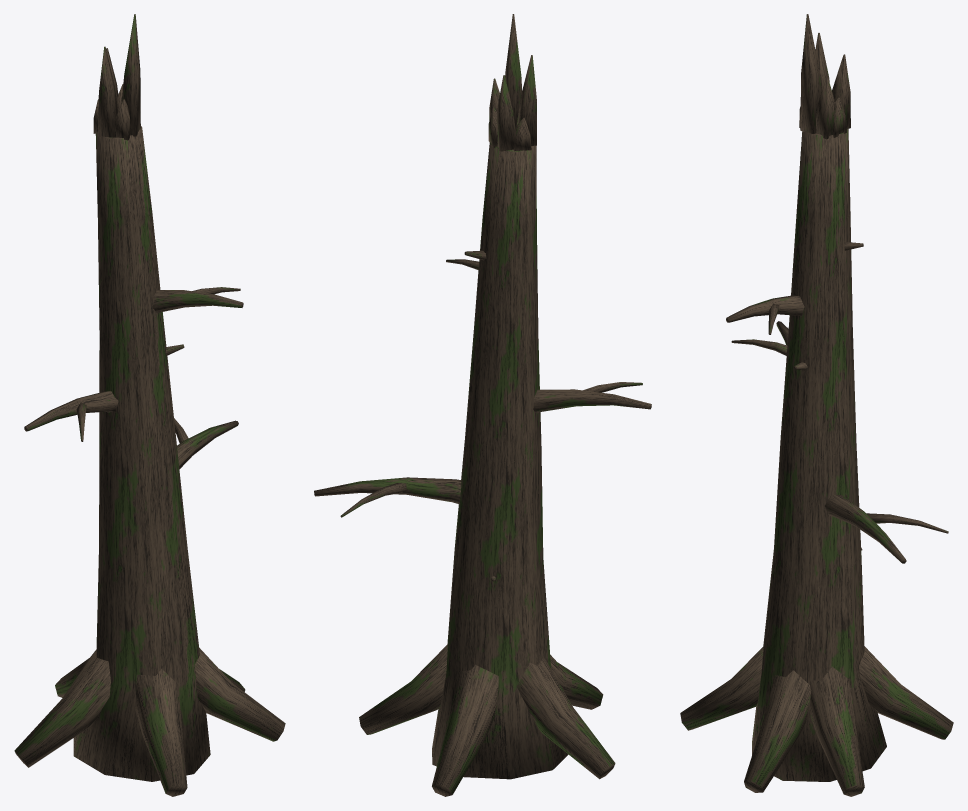
The model's file is Dead_Standing_Trunk.glb.
3 views of the same model, side by side, from view 1: azimuth 30°, elevation 25°; view 2: azimuth 150°, elevation 25°; view 3: azimuth 270°, elevation 25° (orthographic).
Visible parts, largest first — view 1: Dead_Standing_Trunk__Bark; view 2: Dead_Standing_Trunk__Bark; view 3: Dead_Standing_Trunk__Bark.
Part boxes in pixels (x1,y1,x2,y2): Dead_Standing_Trunk__Bark: (14,14,285,796); Dead_Standing_Trunk__Bark: (314,14,651,796); Dead_Standing_Trunk__Bark: (680,14,953,796).
Bounding box in the file's own units: 15.29 × 39.55 × 13.32.
Materials: 2 (2 with a texture image).
